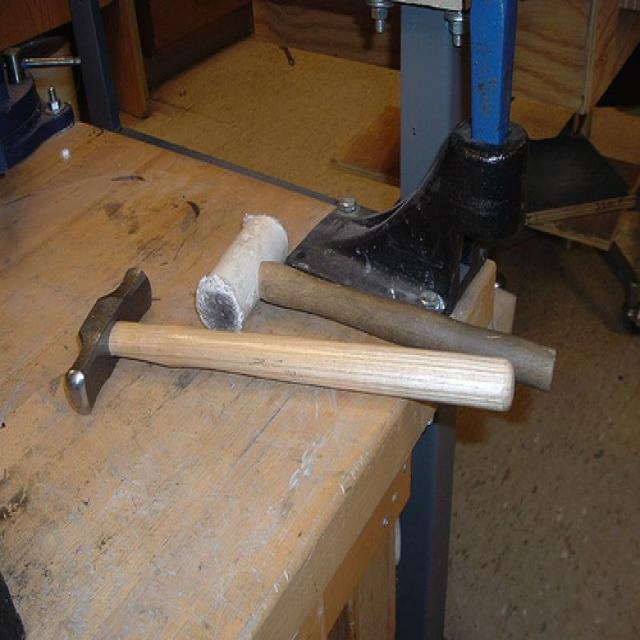hammer: (46, 250, 493, 455)
